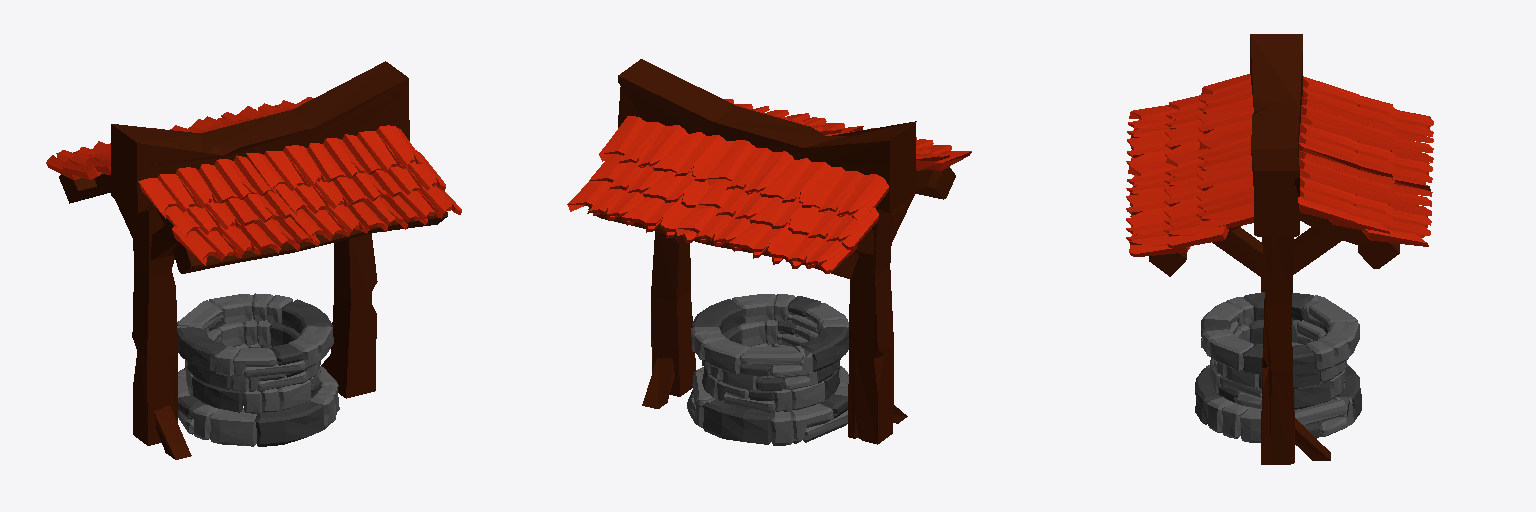
File: puit.obj
3 views of the same model, side by side, from view 1: azimuth 30°, elevation 25°; view 2: azimuth 150°, elevation 25°; view 3: azimuth 270°, elevation 25° (orthographic).
Visible parts, largest first — view 1: Cube.031, Cube.006, Cube.003, Cube.004, Cube.005, Cube, Cube.002, Cube.032, Cube.001, Cube.007, Cube.034, Cube.012 (+1 smaller); view 2: Cube.032, Cube.006, Cube.003, Cube.004, Cube, Cube.005, Cube.002, Cube.001, Cube.031, Cube.033, Cube.012, Cube.007; view 3: Cube.031, Cube.032, Cube.006, Cube.003, Cube.005, Cube, Cube.002, Cube.001, Cube.009, Cube.030, Cube.029, Cube.012 (+2 smaller).
Part boxes in pixels (x1,y1,x2,y2): Cube.031: (138, 125, 461, 265); Cube.006: (111, 61, 409, 213); Cube.003: (177, 293, 333, 377); Cube.004: (132, 209, 177, 445); Cube.005: (329, 233, 377, 398); Cube: (178, 366, 339, 446); Cube.002: (185, 316, 320, 392); Cube.032: (46, 97, 313, 180); Cube.001: (186, 342, 322, 413); Cube.007: (173, 212, 447, 273); Cube.034: (154, 405, 191, 459); Cube.012: (59, 174, 110, 203); Cube.032: (567, 116, 888, 273); Cube.006: (618, 59, 916, 212); Cube.003: (690, 294, 848, 376); Cube.004: (848, 209, 893, 444); Cube: (687, 366, 848, 445); Cube.005: (651, 231, 695, 396); Cube.002: (702, 320, 840, 390); Cube.001: (702, 343, 839, 412); Cube.031: (724, 99, 971, 170); Cube.033: (642, 358, 674, 408); Cube.012: (588, 207, 858, 279); Cube.007: (916, 167, 955, 199); Cube.031: (1126, 74, 1253, 256); Cube.032: (1298, 76, 1433, 246); Cube.006: (1250, 34, 1302, 236); Cube.003: (1201, 292, 1359, 374); Cube.005: (1261, 237, 1294, 464); Cube: (1195, 364, 1361, 442); Cube.002: (1213, 319, 1345, 388); Cube.001: (1209, 342, 1346, 409); Cube.009: (1212, 227, 1263, 278); Cube.030: (1293, 227, 1342, 274); Cube.029: (1300, 213, 1368, 245); Cube.012: (1358, 240, 1399, 268).
Size of the model in its own units: 21.47 by 22.86 by 20.47.